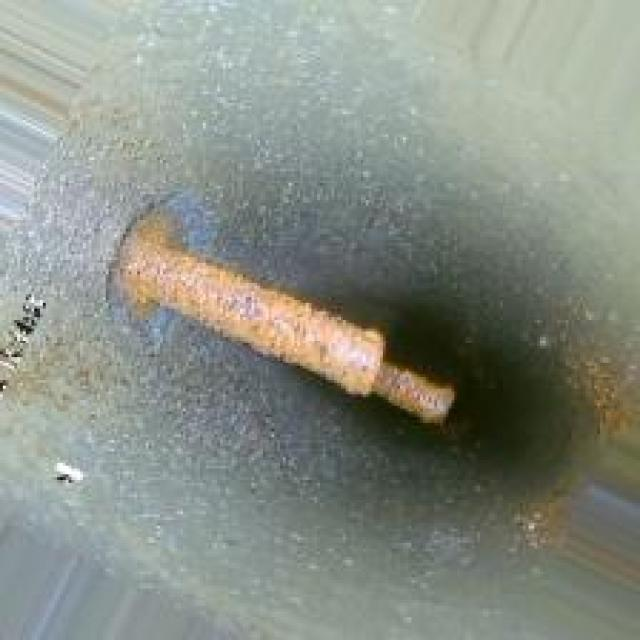ferrule: (94, 197, 466, 417)
